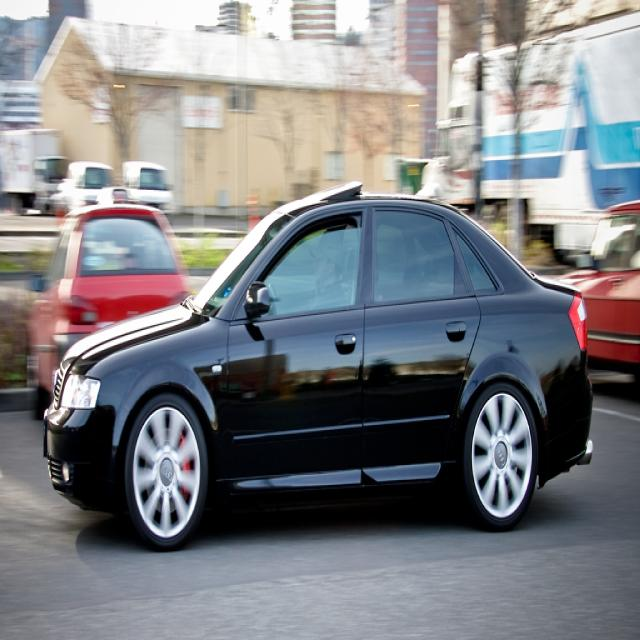car: (42, 186, 593, 539)
